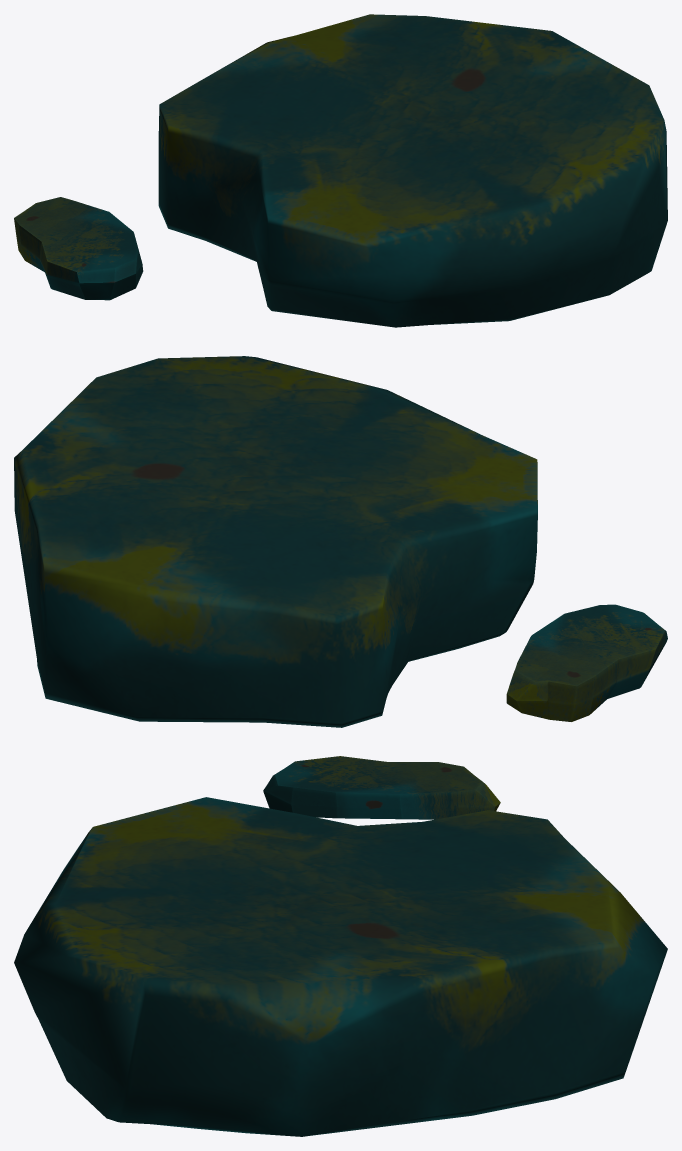
Rendered from stone02.fbx.
The picture shows the model from 3 angles, top to bottom: view 1: azimuth 30°, elevation 25°; view 2: azimuth 150°, elevation 25°; view 3: azimuth 270°, elevation 25°; orthographic projection. The views are drawn at different scales.
Visible parts, largest first — view 1: stone01, stone02; view 2: stone01, stone02; view 3: stone01, stone02.
Part boxes in pixels (bbox=[...]): stone01: bbox=[158, 14, 667, 327]; stone02: bbox=[14, 197, 143, 300]; stone01: bbox=[14, 356, 537, 727]; stone02: bbox=[506, 604, 667, 721]; stone01: bbox=[14, 797, 667, 1136]; stone02: bbox=[263, 756, 500, 819].
Size of the model in its own units: 4.42 by 1.05 by 3.8.
1 material, 1 textured.
